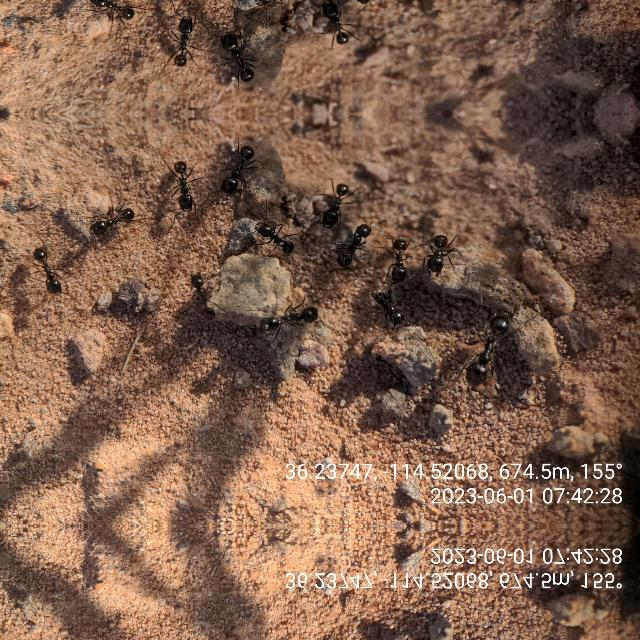Messor: (462, 304, 518, 390), (178, 261, 234, 323), (328, 215, 378, 275), (255, 294, 323, 338), (316, 172, 362, 234), (316, 0, 361, 54), (220, 146, 264, 200), (220, 26, 264, 80), (252, 209, 298, 257), (94, 195, 140, 242), (30, 230, 60, 300), (364, 282, 411, 326), (172, 152, 204, 215), (172, 11, 204, 74), (418, 230, 457, 274), (94, 0, 140, 30), (390, 233, 412, 283), (251, 0, 298, 17)
